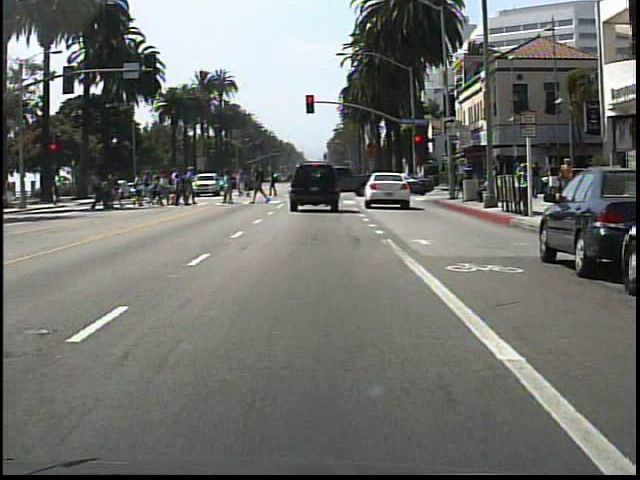person: (512, 159, 530, 217), (544, 154, 562, 202), (559, 155, 576, 202)
